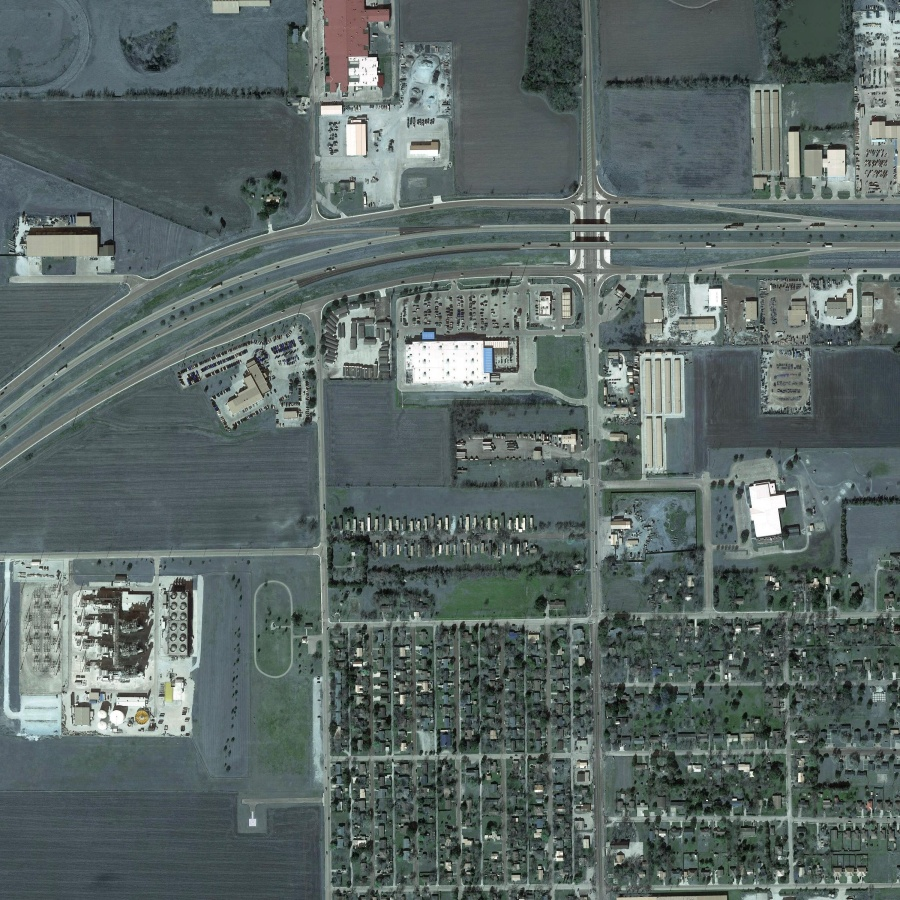PowerPlant: (6, 554, 200, 743)
